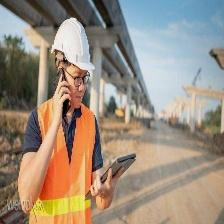Person: (22, 5, 107, 224)
helmet: (49, 19, 97, 73)
vest: (26, 99, 97, 224)
